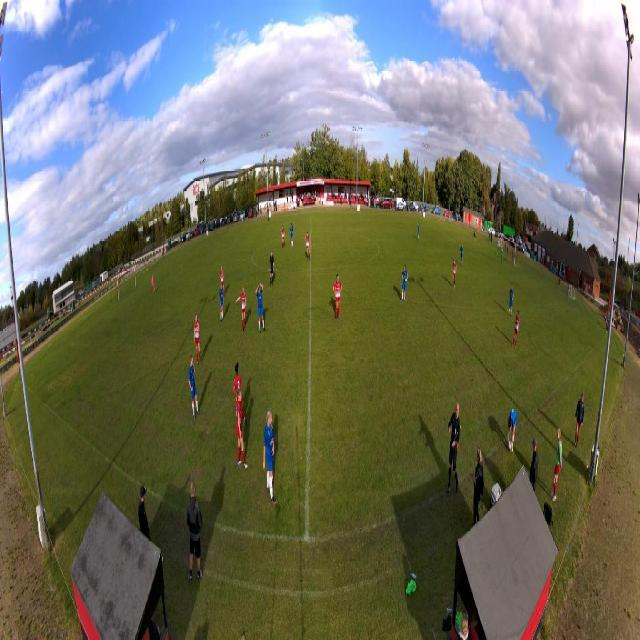player: (262, 408, 277, 506), (232, 362, 249, 430), (235, 387, 248, 471), (188, 353, 201, 420), (235, 284, 247, 333), (255, 283, 266, 335), (332, 273, 343, 322), (194, 312, 202, 369), (400, 264, 409, 305), (512, 309, 521, 350), (508, 283, 515, 319), (219, 263, 226, 298), (269, 249, 275, 288), (219, 284, 224, 324), (451, 258, 457, 290), (305, 231, 311, 262), (289, 222, 294, 249), (280, 225, 285, 250), (460, 242, 464, 268), (151, 274, 156, 294), (417, 221, 421, 241), (500, 246, 504, 265)
